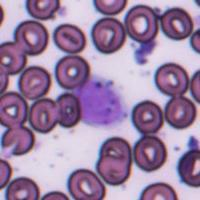L: (75, 75, 129, 128)
